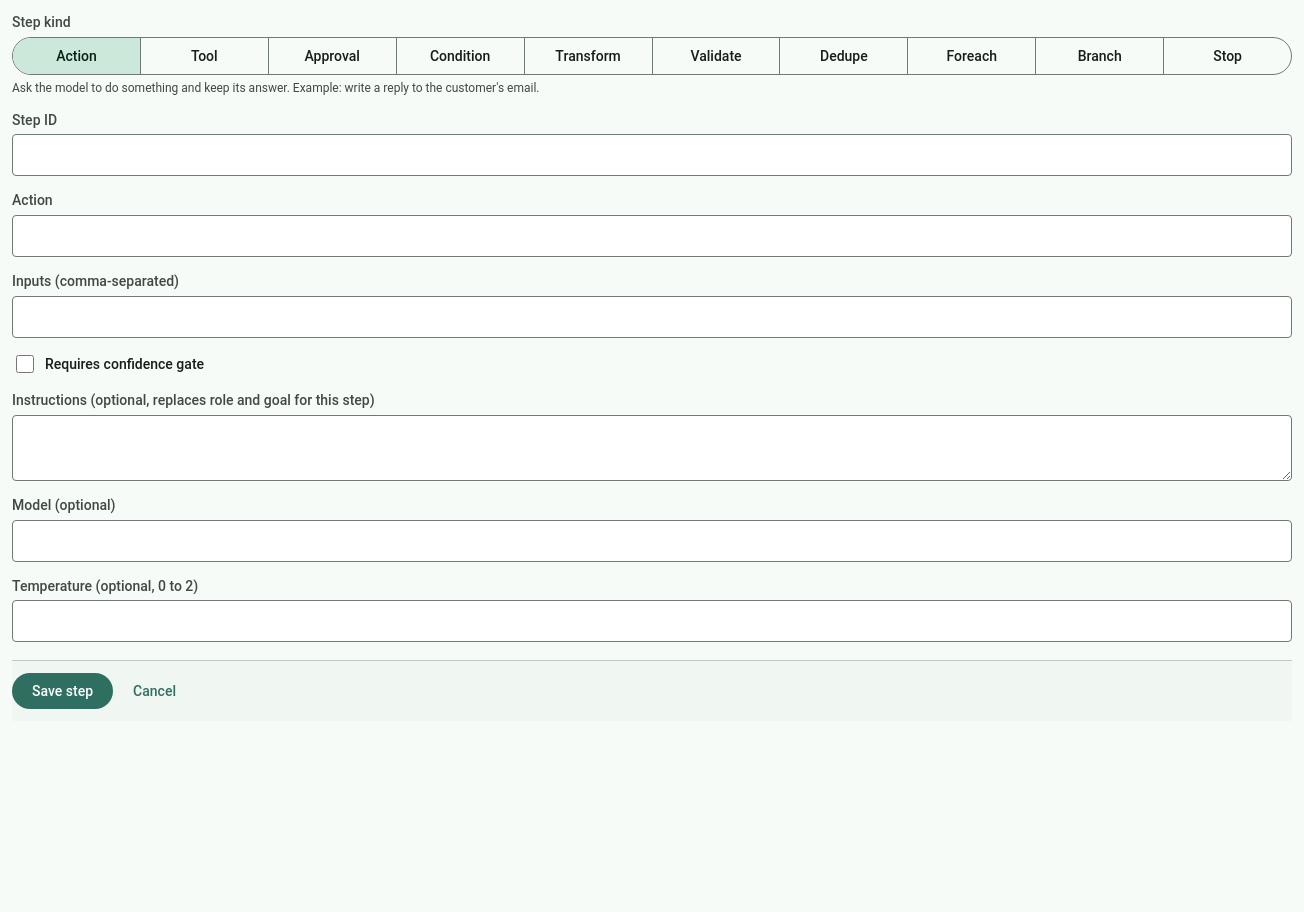
Add Workflow Step kind help › Approval explains itself, with an example, once selected
What coordinates should you click on to do the following:
click the button "Approval"
I would click on:
 (333, 56)
Its box is top-left (269, 38), bottom-right (397, 74).
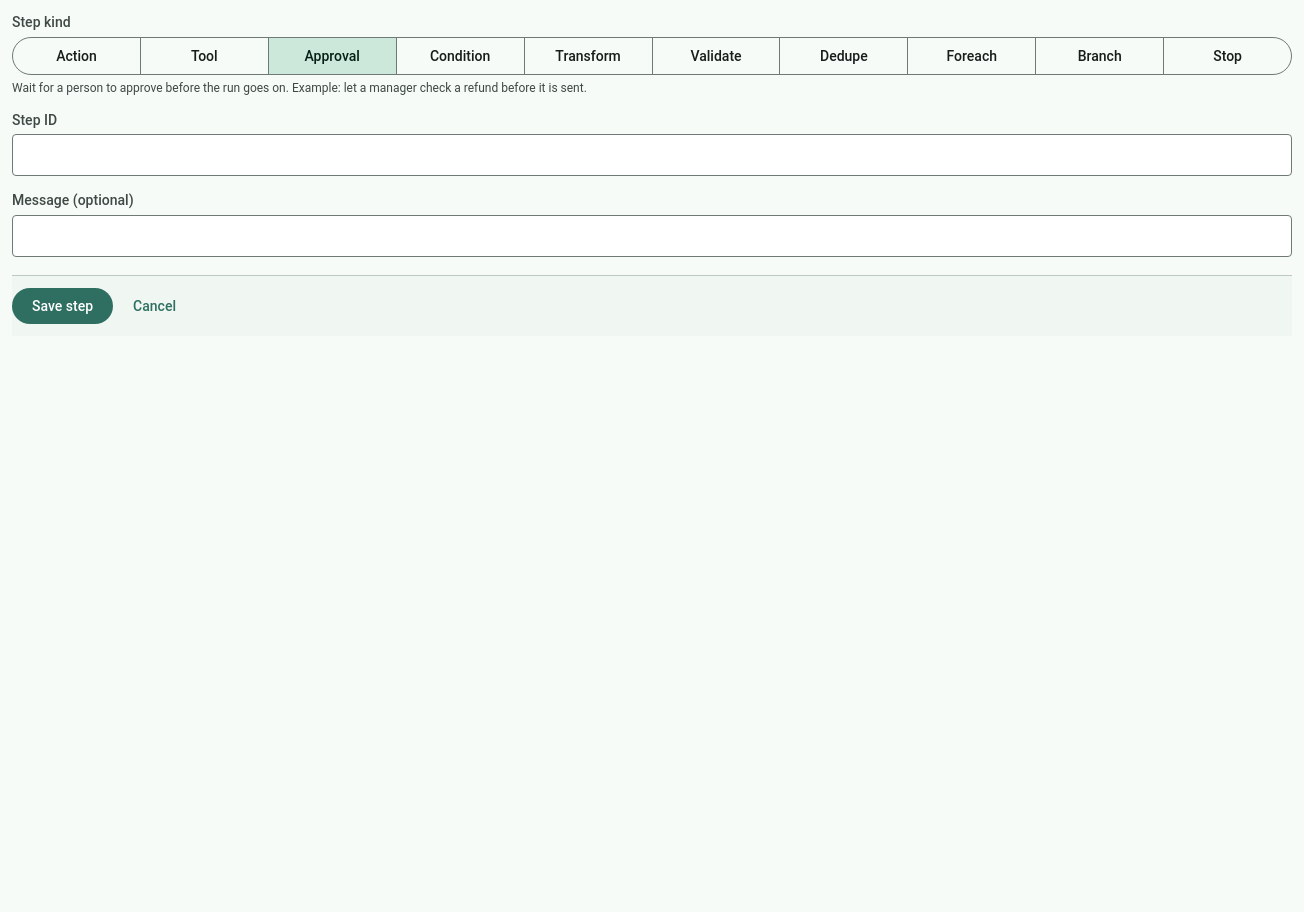
expect the text with test id "step-kind-help" shows "Example:": met, box top-left (292, 81), bottom-right (587, 95)
expect the text with test id "step-kind-help" shows "Wait for a person": met, box top-left (12, 81), bottom-right (289, 95)
